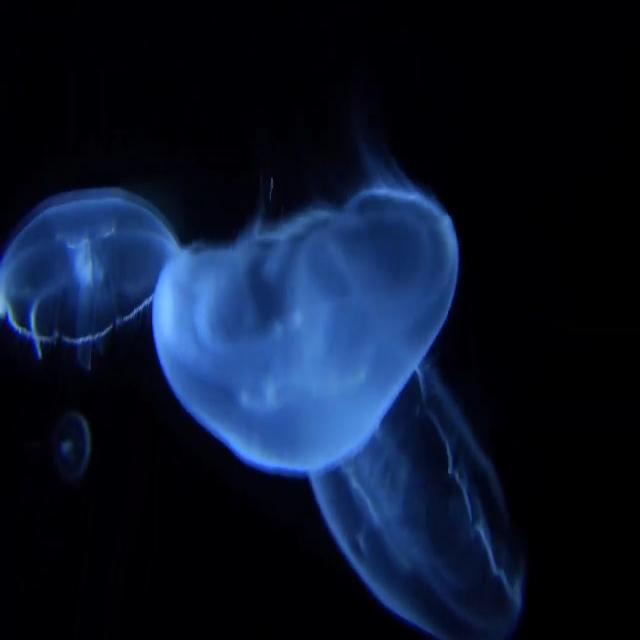Moon-jellyfish: (150, 185, 460, 479), (288, 270, 530, 639), (0, 188, 182, 632)
